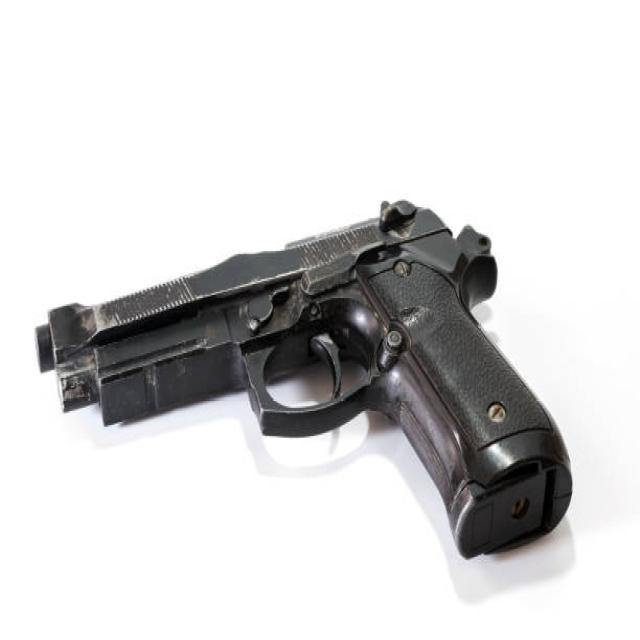pistol: (33, 179, 577, 570)
